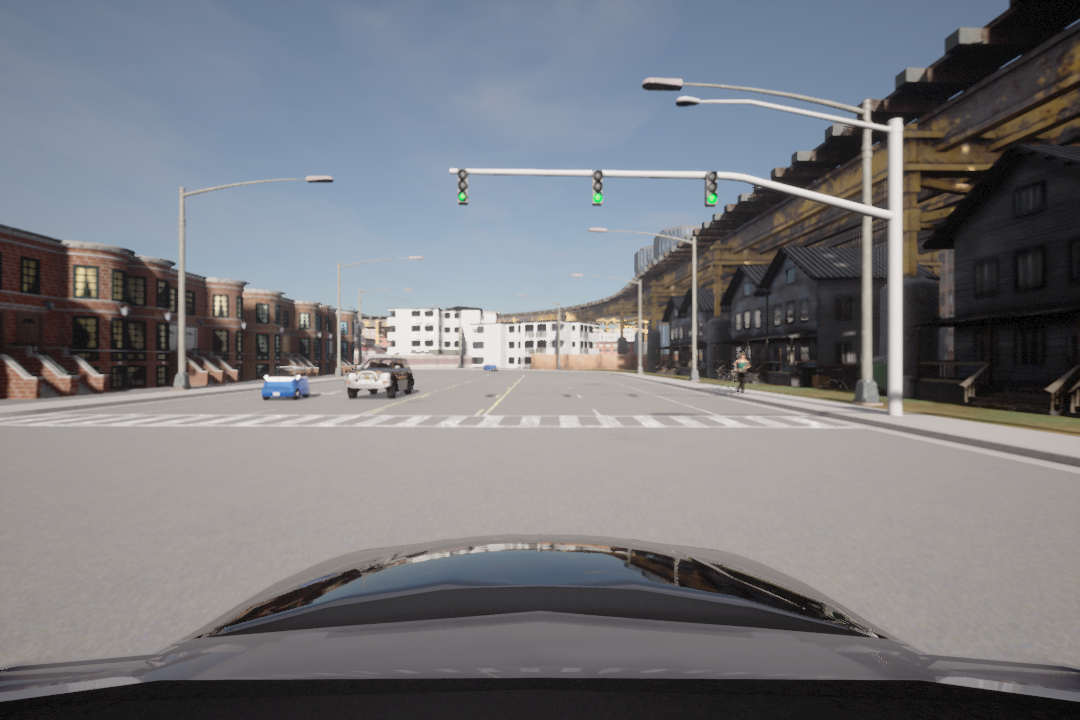TrafficLight: (701, 171, 719, 208), (591, 166, 604, 209), (454, 164, 467, 205)
walkside: (1, 407, 861, 434)
